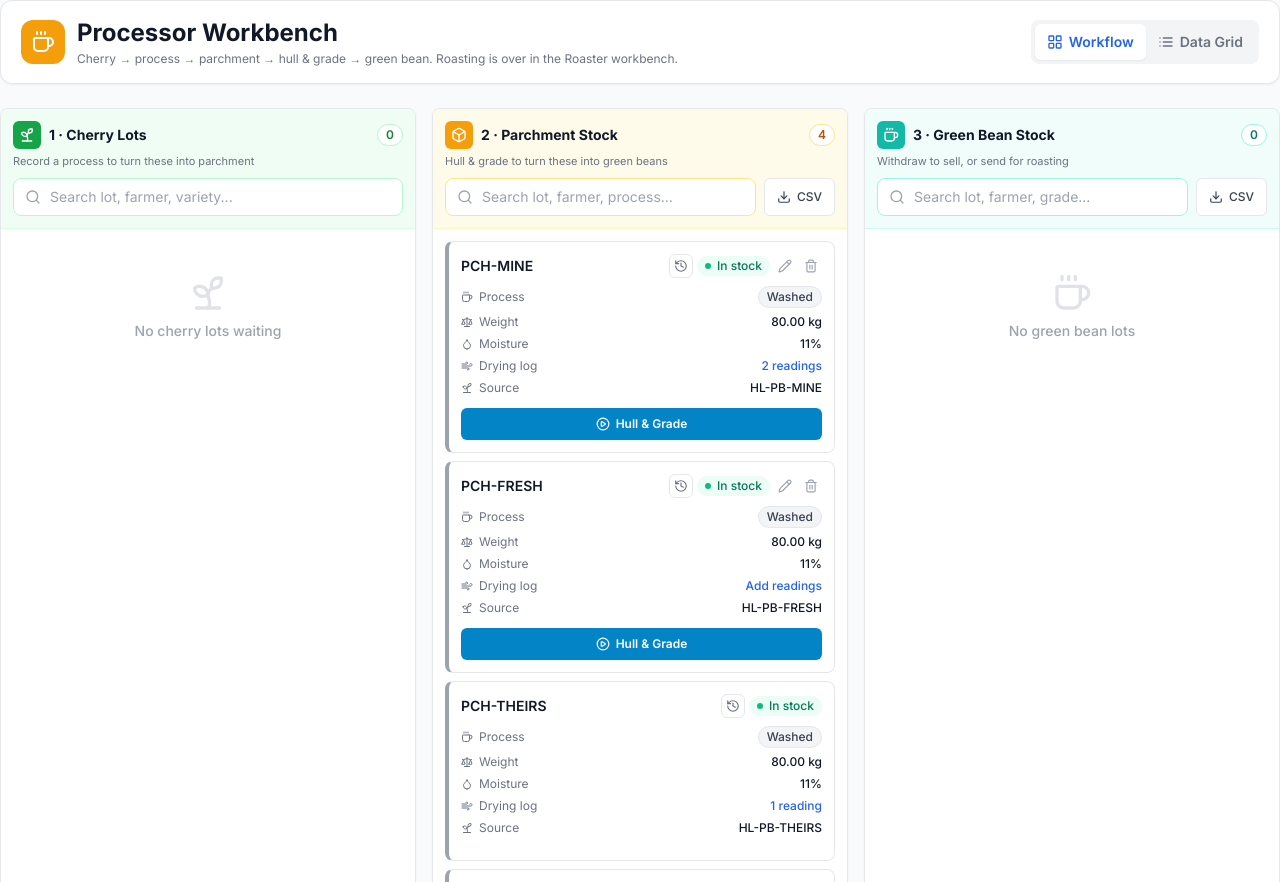
Scenario: Workbench drying log › refuses a moisture over 100% before saving
Click the button "Add readings" at (784, 586), box x1=746 y1=578 x2=822 y2=594
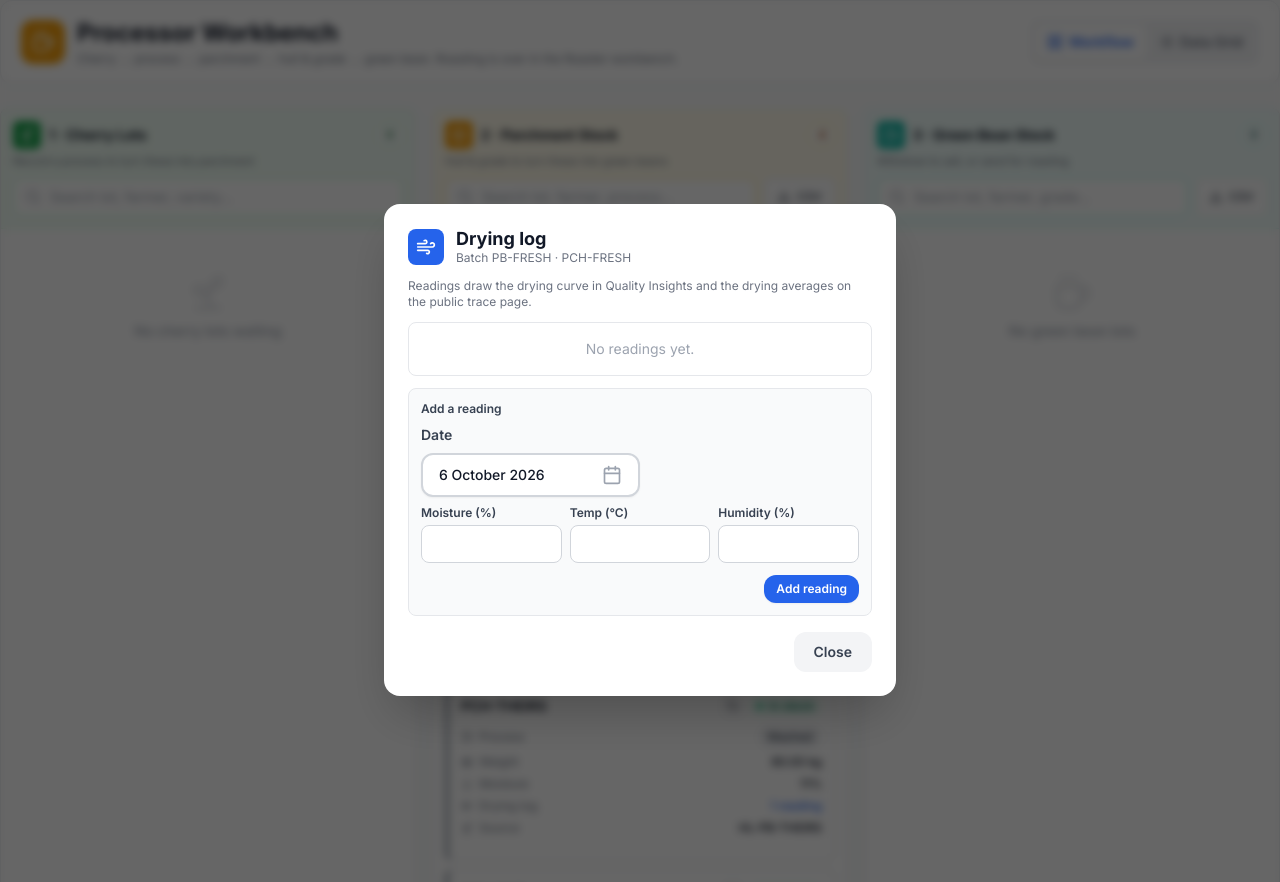
Expected: the dialog shows "No readings yet.", x1=586 y1=340 x2=694 y2=357
Type "120" into the number field labelled "Moisture (%)" at (491, 544), box x1=421 y1=525 x2=562 y2=563
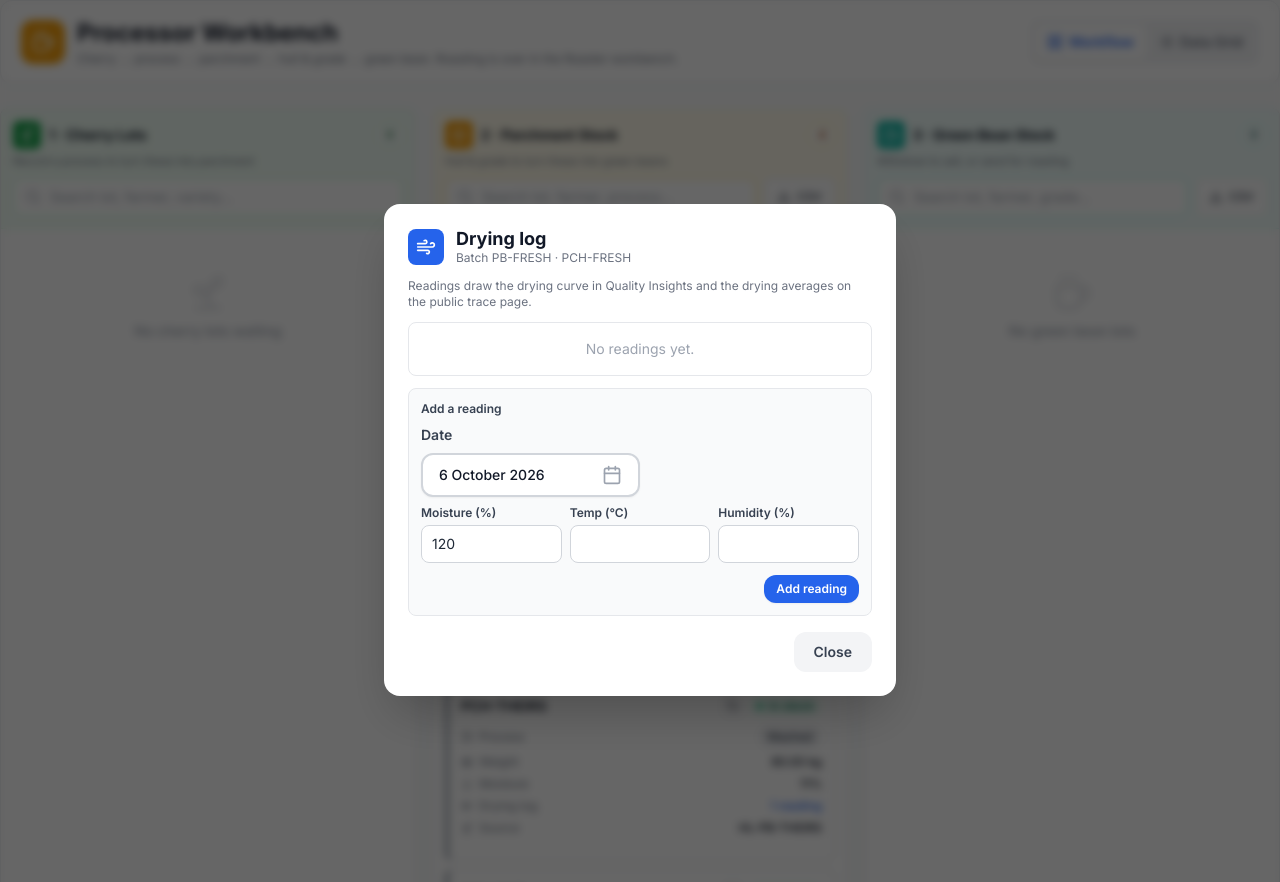
Type "29" into the number field labelled "Temp (°C)" at (640, 544), box x1=570 y1=525 x2=710 y2=563
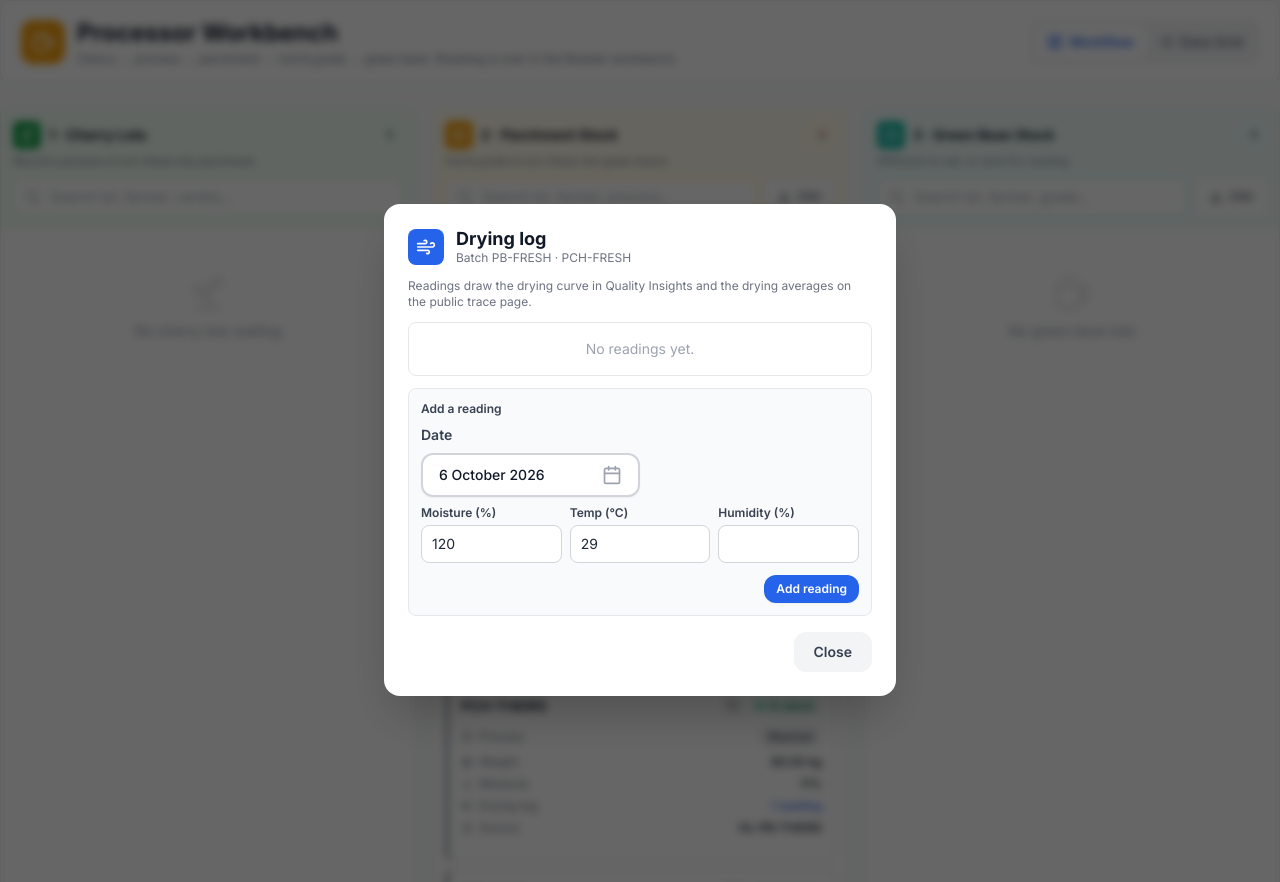
Type "60" into the number field labelled "Humidity (%)" at (789, 544), box x1=718 y1=525 x2=859 y2=563
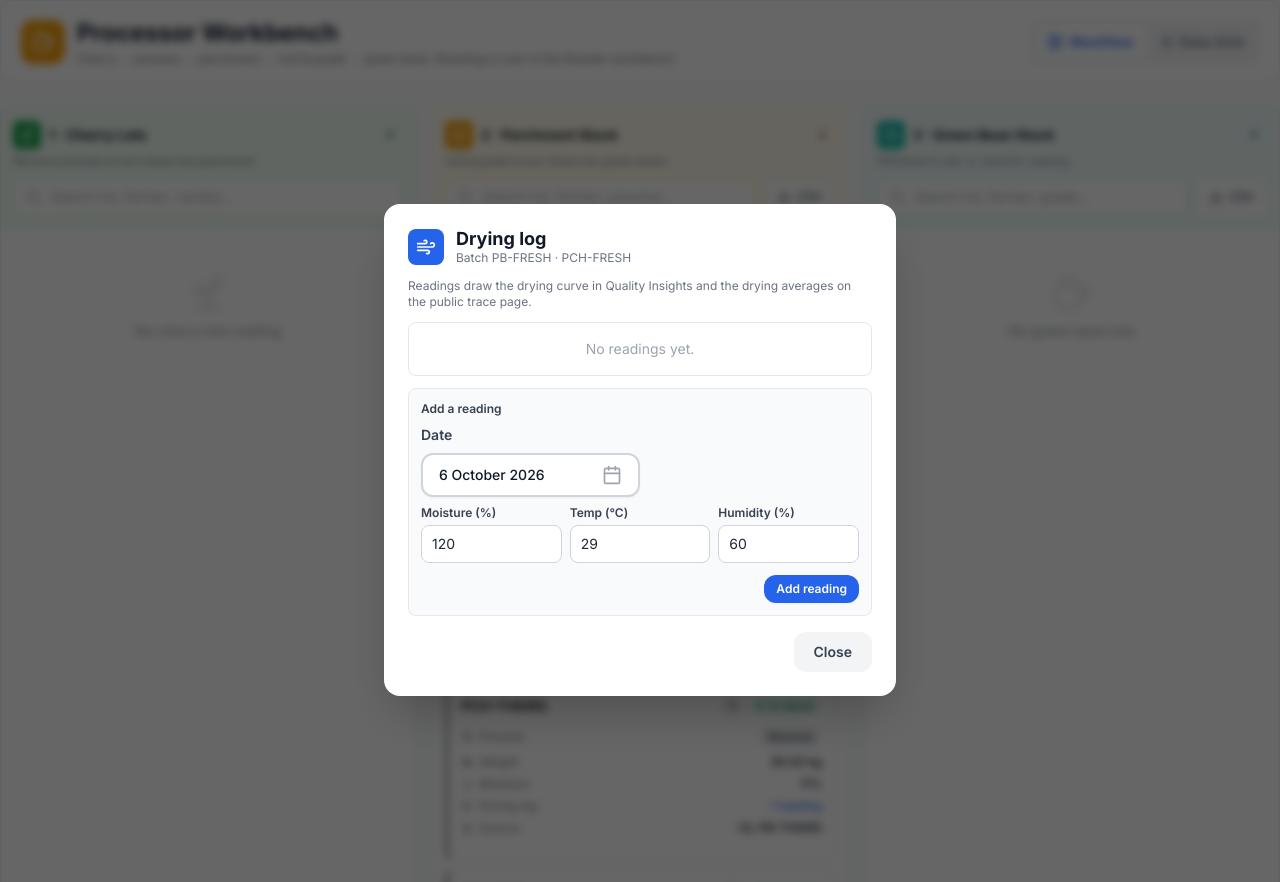
Click the button "Add reading" at (812, 589), box x1=764 y1=575 x2=859 y2=603
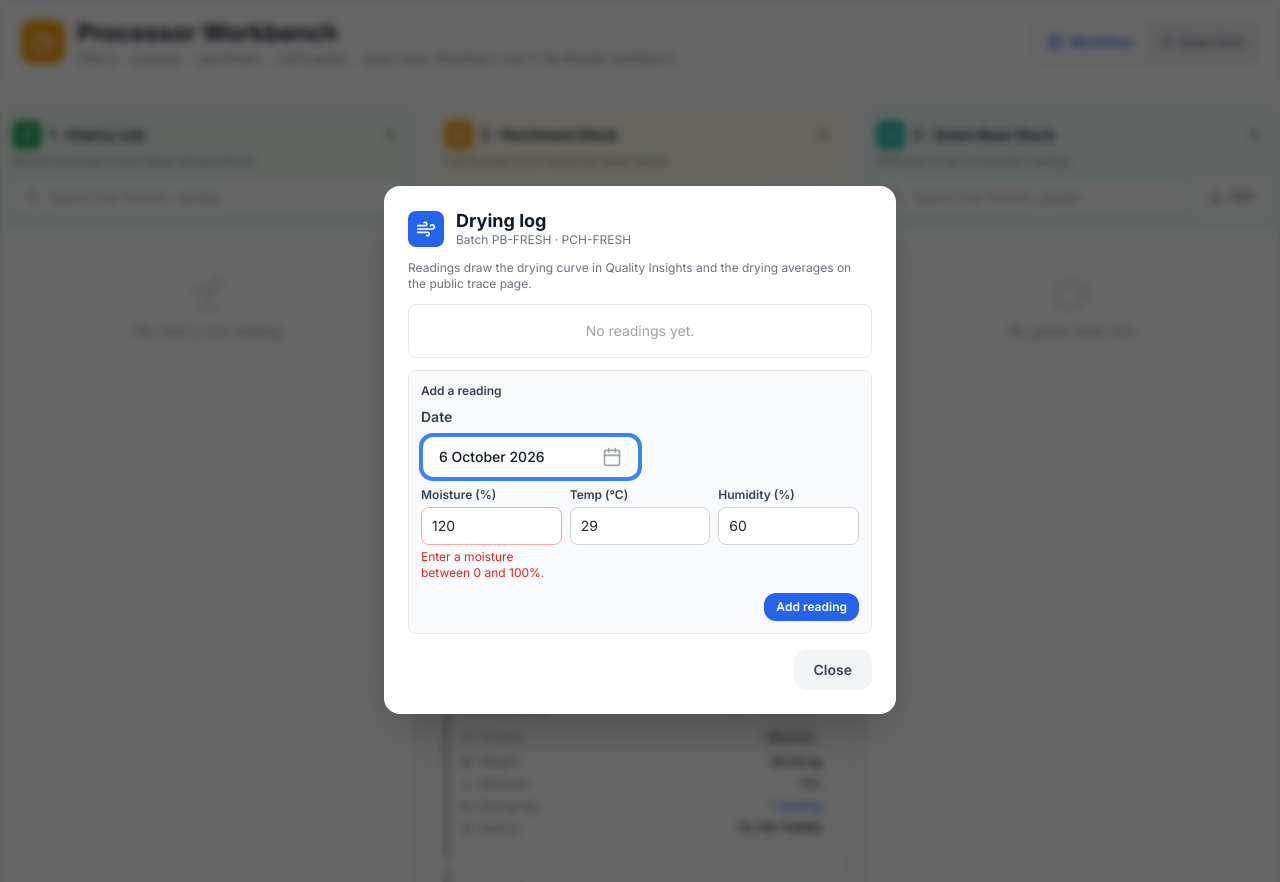
Expected: the dialog shows "Enter a moisture between 0 and 100%.", x1=421 y1=549 x2=544 y2=580
